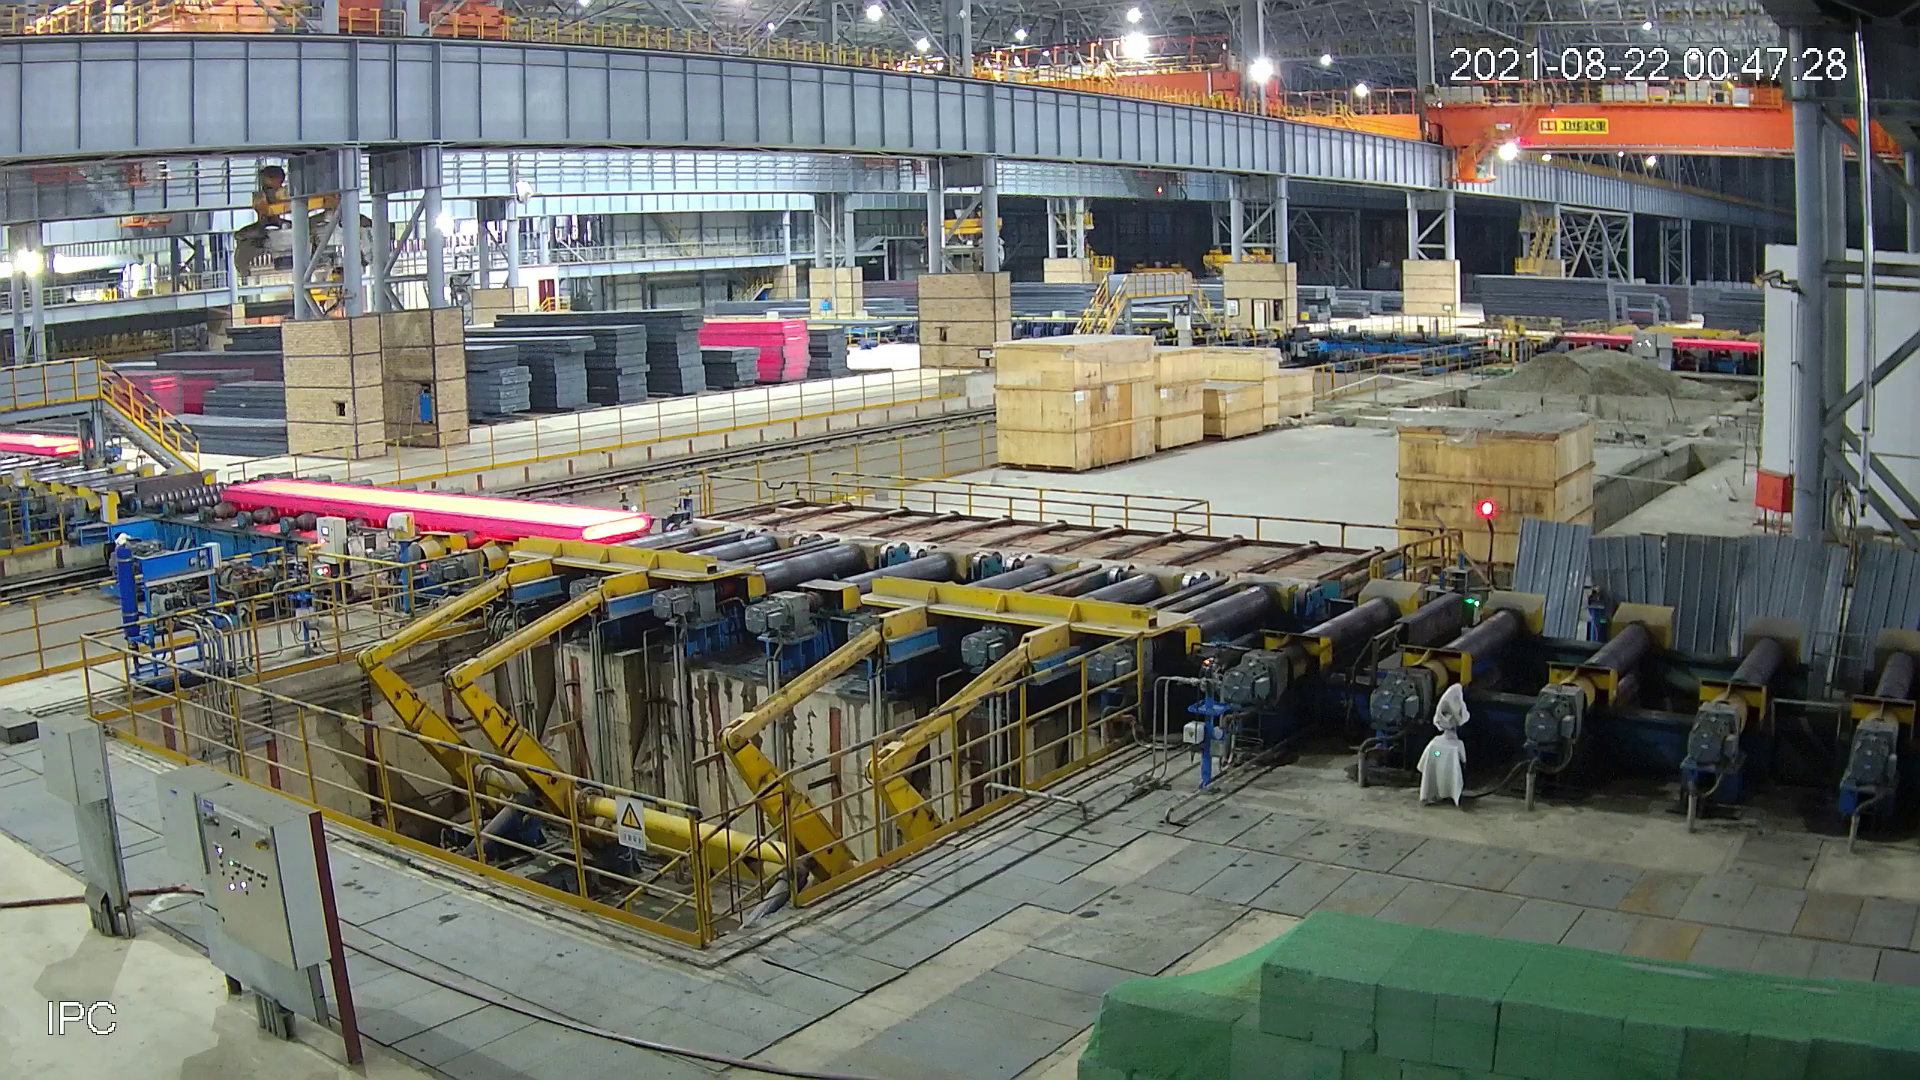slab: (712, 752, 1399, 839)
